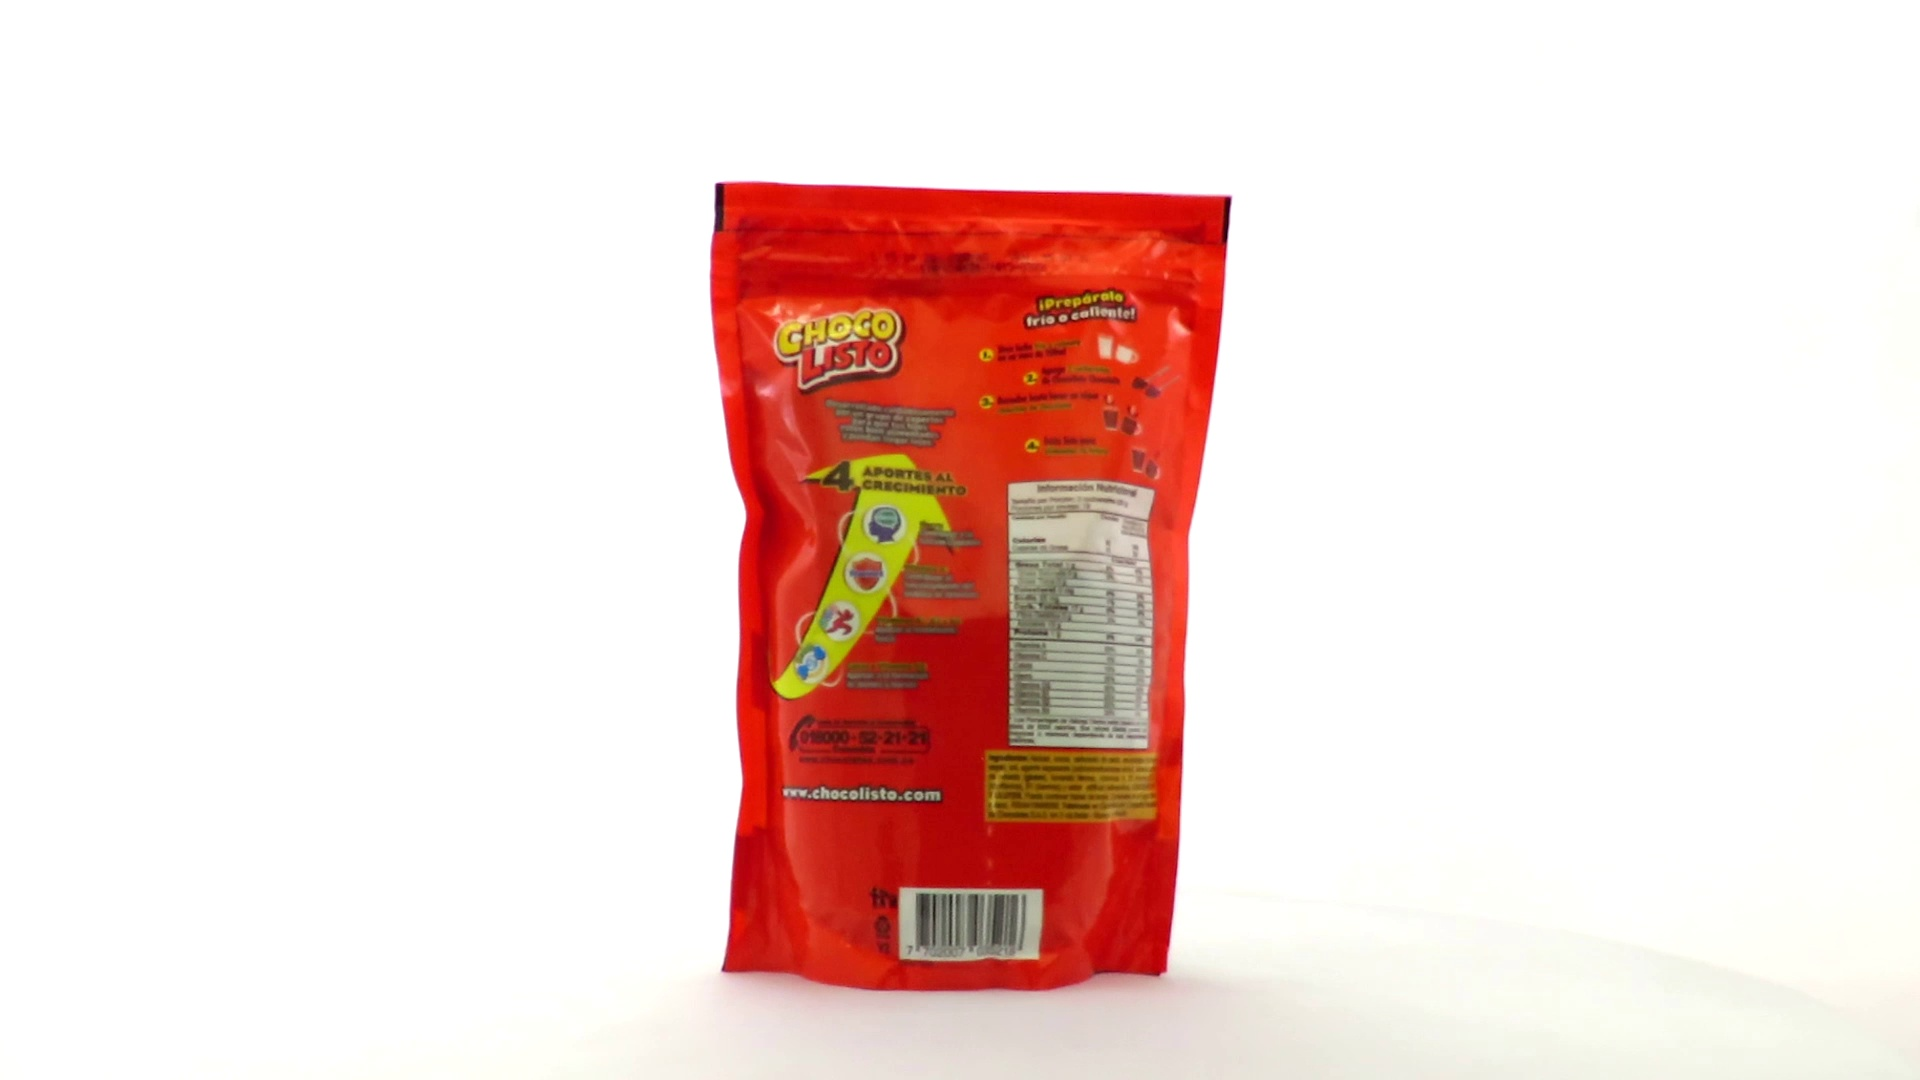COL0170103DYP36000: (705, 175, 1238, 998)
